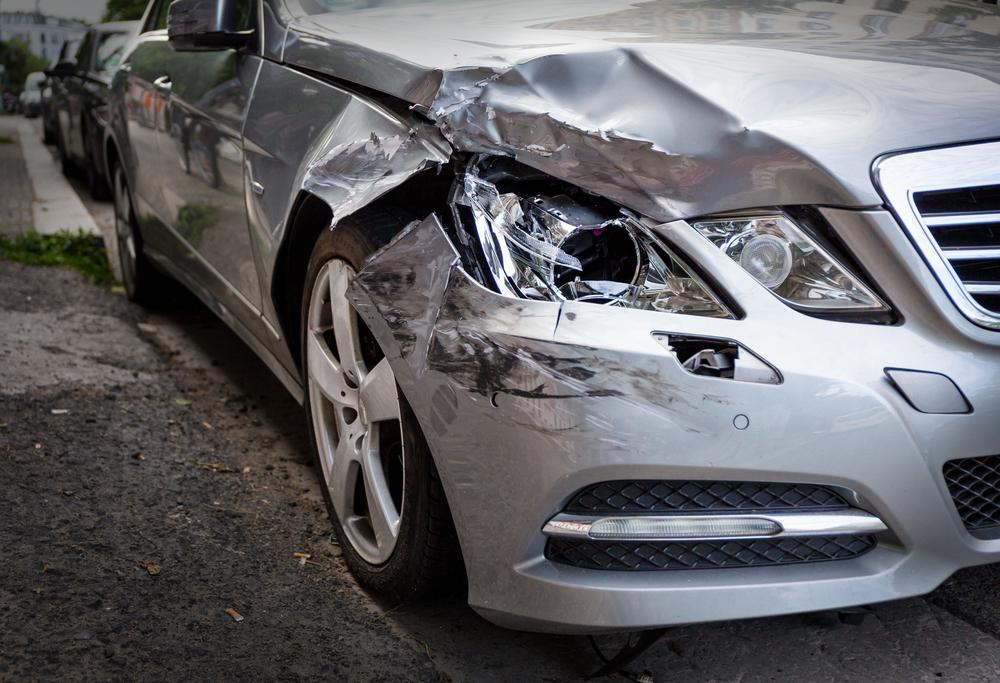crack: (553, 301, 564, 338)
dent: (403, 50, 859, 218), (303, 99, 436, 210)
lamp broken: (458, 156, 736, 319)
scratch: (347, 218, 726, 442)
